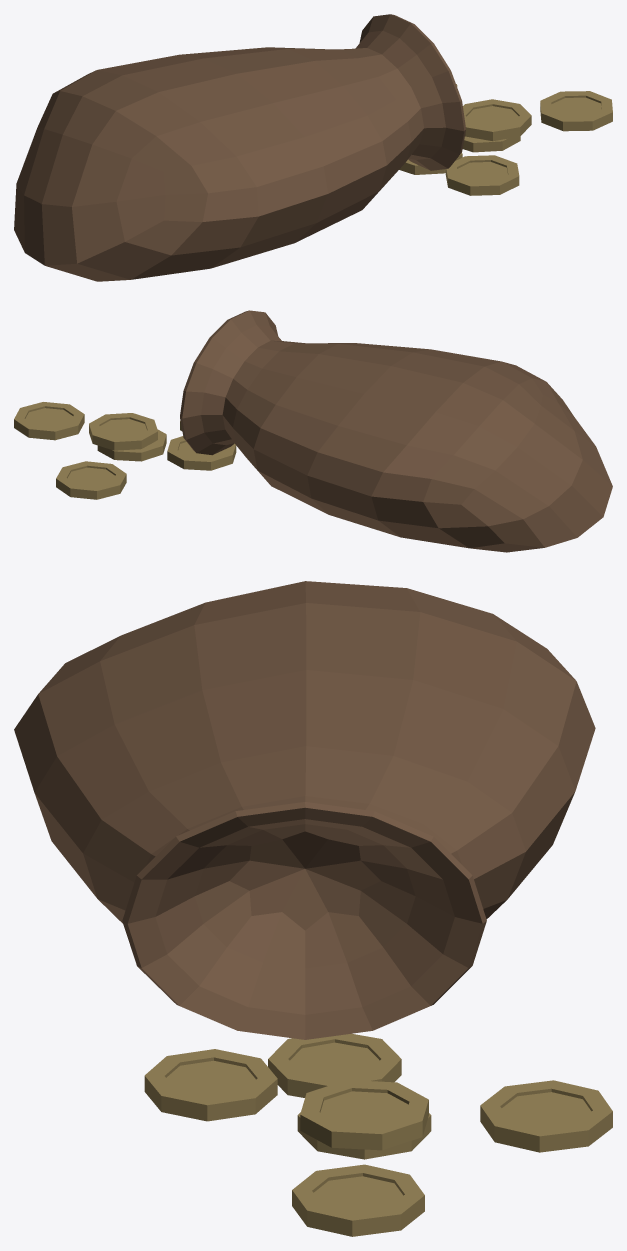
The model's file is Bag_Coins.glb.
3 renders of one model, top to bottom at view 1: azimuth 30°, elevation 25°; view 2: azimuth 150°, elevation 25°; view 3: azimuth 270°, elevation 25°, orthographic. The views are drawn at different scales.
Visible parts, largest first — view 1: Bag_Coins; view 2: Bag_Coins; view 3: Bag_Coins.
Part boxes in pixels (left/top/right/bottom): Bag_Coins: left=14, top=14, right=612, bottom=281; Bag_Coins: left=14, top=310, right=612, bottom=552; Bag_Coins: left=14, top=581, right=612, bottom=1236.
Bounding box in the file's own units: 0.1105 × 0.0286 × 0.0555.
